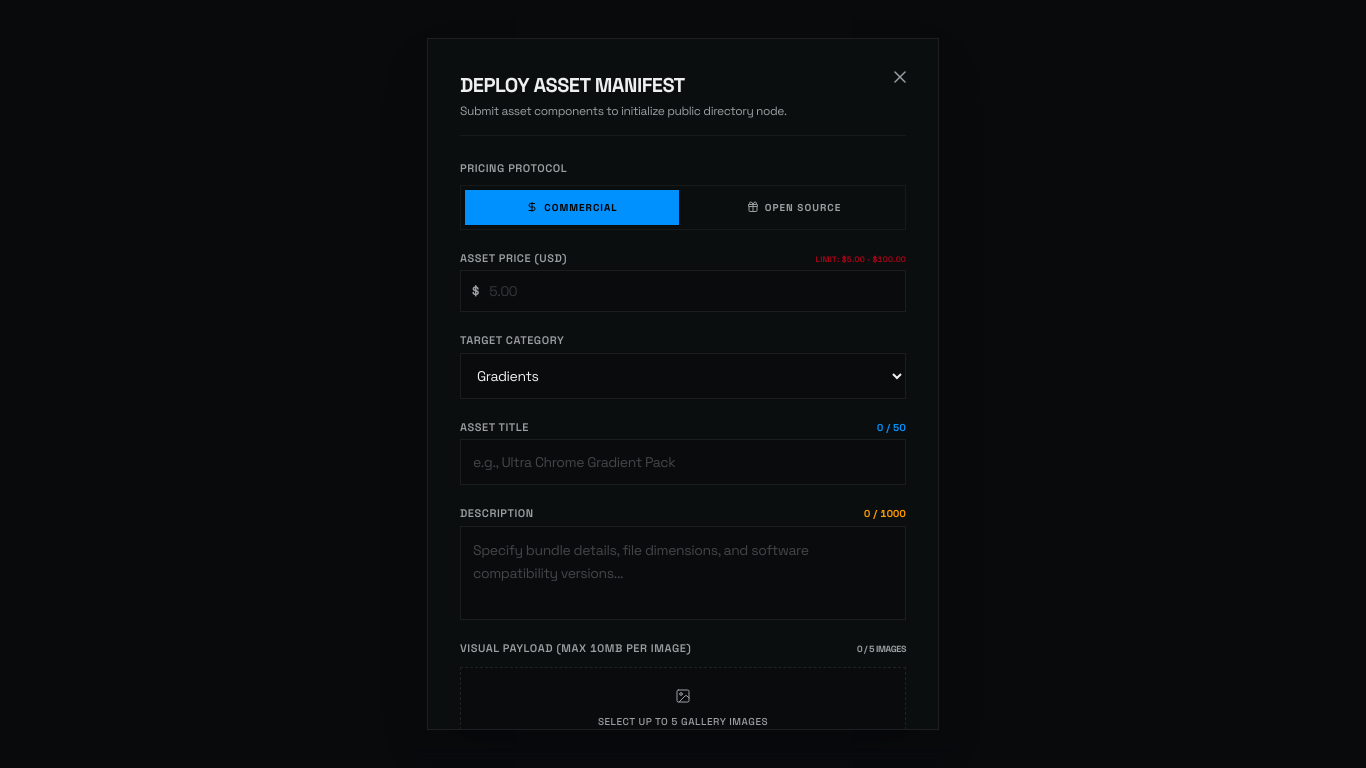
Scenario: DeployAssetModal Component › handles toggle between Commercial and Open Source price layouts
Expected: the number field with placeholder "5.00" is shown, [460,270,906,312]
Click the button "Open Source". click: [794, 207]
box: [687,190,901,225]
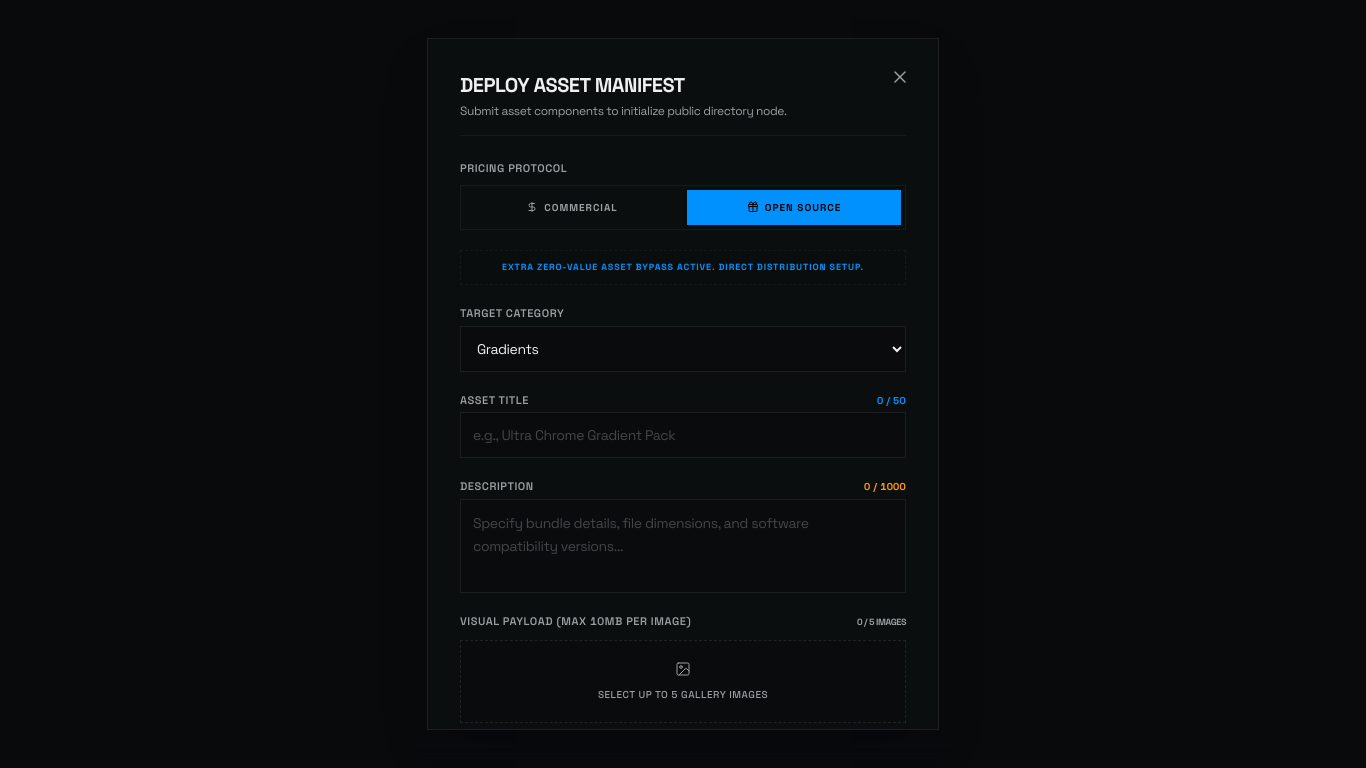
Now the text with placeholder "5.00" is gone
Now the text "Extra Zero-Value Asset Bypass Active" is shown, box [502,261,864,273]
Click the button "Commercial". click: [572, 207]
box: [465,190,679,225]
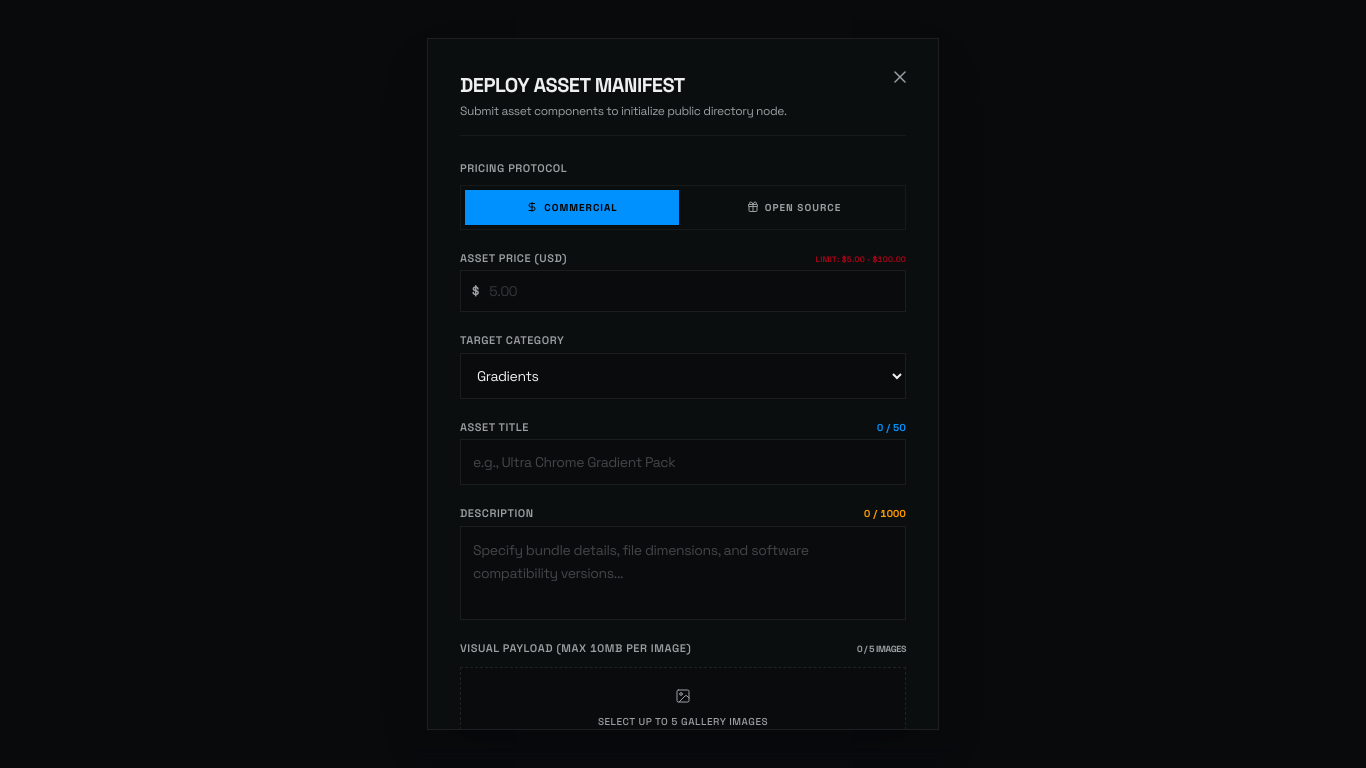
Now the number field with placeholder "5.00" is shown, box [460,270,906,312]
